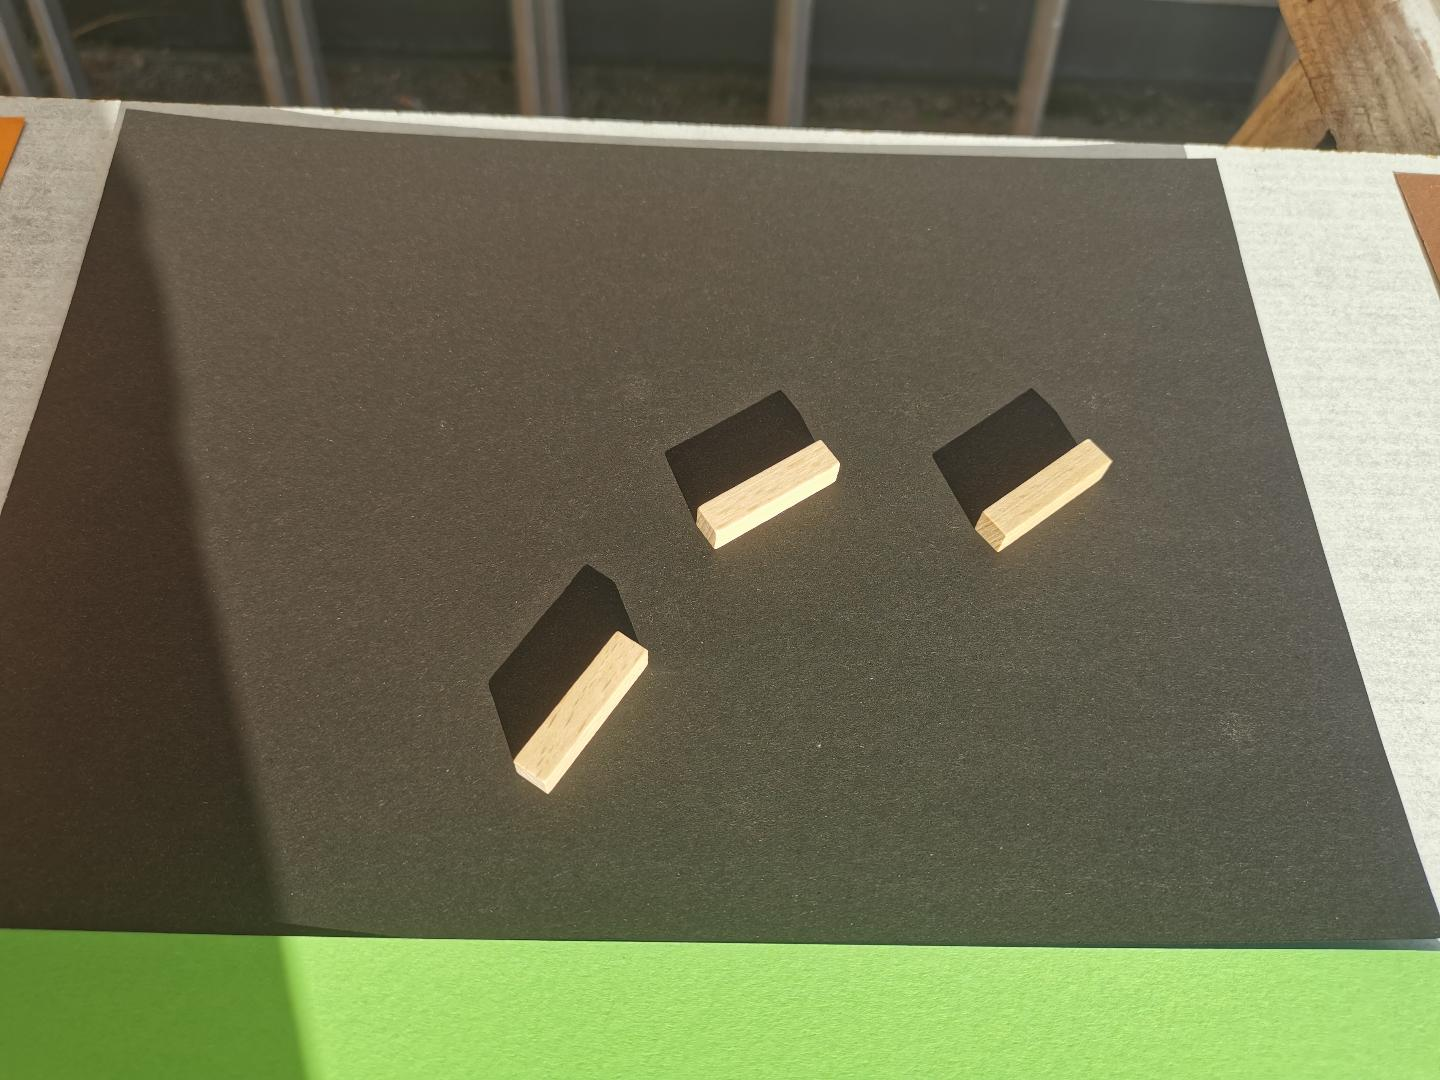jenga: (515, 633, 647, 793), (697, 441, 841, 548), (976, 439, 1111, 551)
